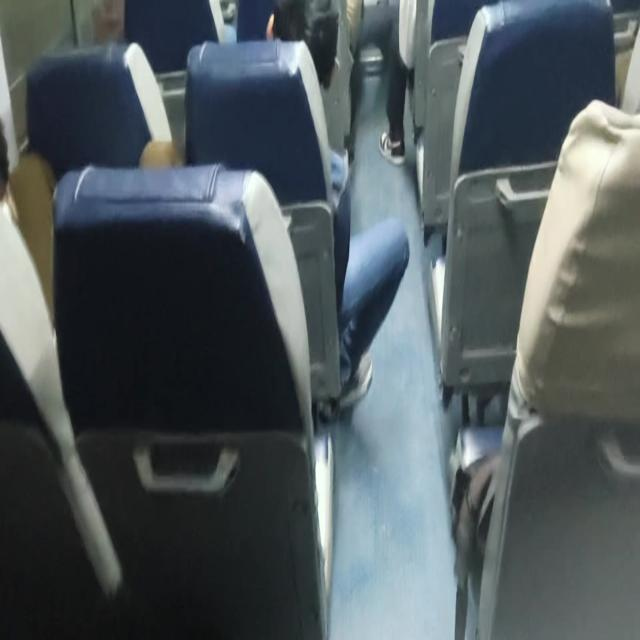person: (259, 0, 339, 87)
